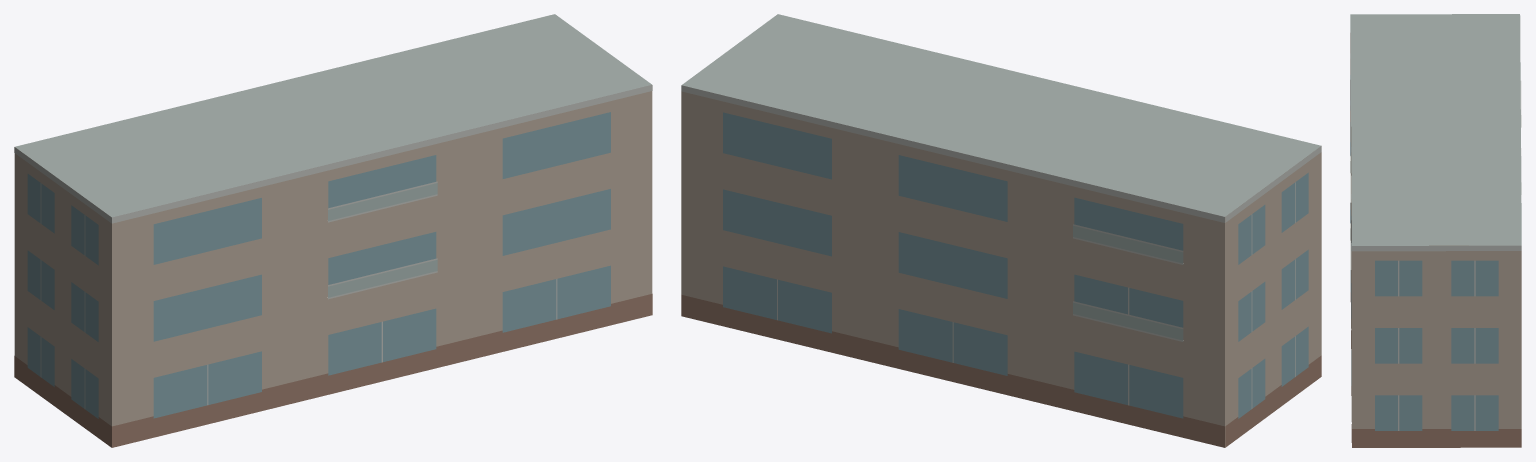
Rendered from survey-upis-32808349.glb.
3 renders of one model, left to right at view 1: azimuth 30°, elevation 25°; view 2: azimuth 150°, elevation 25°; view 3: azimuth 270°, elevation 25°, orthographic. The views are drawn at different scales.
Parts seen in each view (by area): view 1: survey-upis-32808349.tmp; view 2: survey-upis-32808349.tmp; view 3: survey-upis-32808349.tmp.
Boxes of the visible parts, left/top/right/bottom form: survey-upis-32808349.tmp: left=14, top=14, right=652, bottom=447; survey-upis-32808349.tmp: left=681, top=14, right=1321, bottom=447; survey-upis-32808349.tmp: left=1350, top=14, right=1521, bottom=447.
Size of the model in its own units: 22.54 by 9.15 by 7.06.
